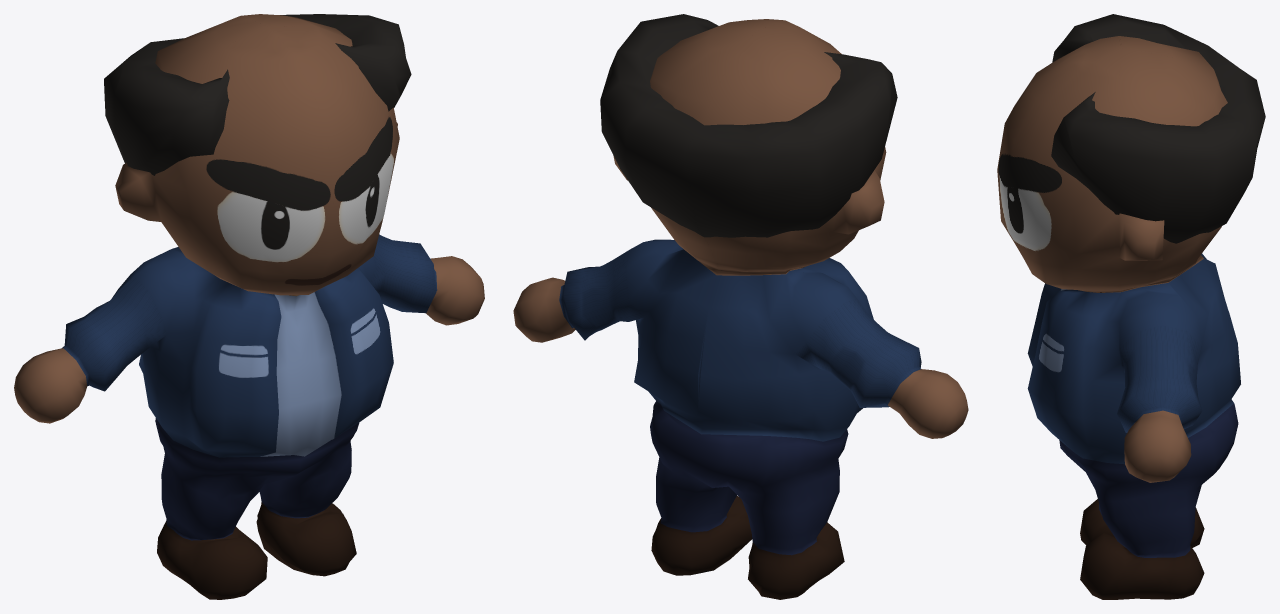
Rendered from Modelo1.fbx_Character05.fbx.
3 renders of one model, left to right at view 1: azimuth 30°, elevation 25°; view 2: azimuth 150°, elevation 25°; view 3: azimuth 270°, elevation 25°, orthographic. The views are drawn at different scales.
Visible parts, largest first — view 1: Character05; view 2: Character05; view 3: Character05.
Part boxes in pixels (x1,y1,x2,y2): Character05: (14, 14, 484, 599); Character05: (513, 14, 968, 599); Character05: (997, 14, 1265, 599).
Size of the model in its own units: 83.62 by 95.96 by 44.75.
